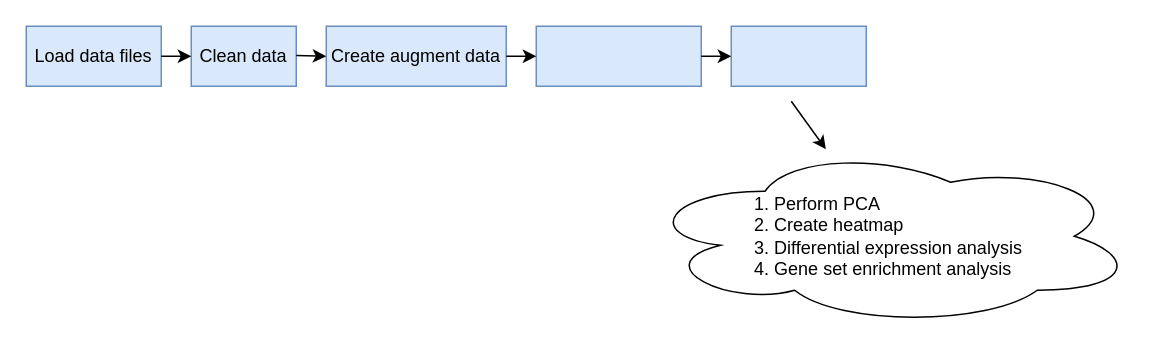
Some shapes in this 1163 by 353 pixel diagram are drawn without their labels. Each missing label, with the box of its shape:
Descriptive analysis: (535, 25, 701, 86)
Further Analysis: (730, 25, 866, 86)
